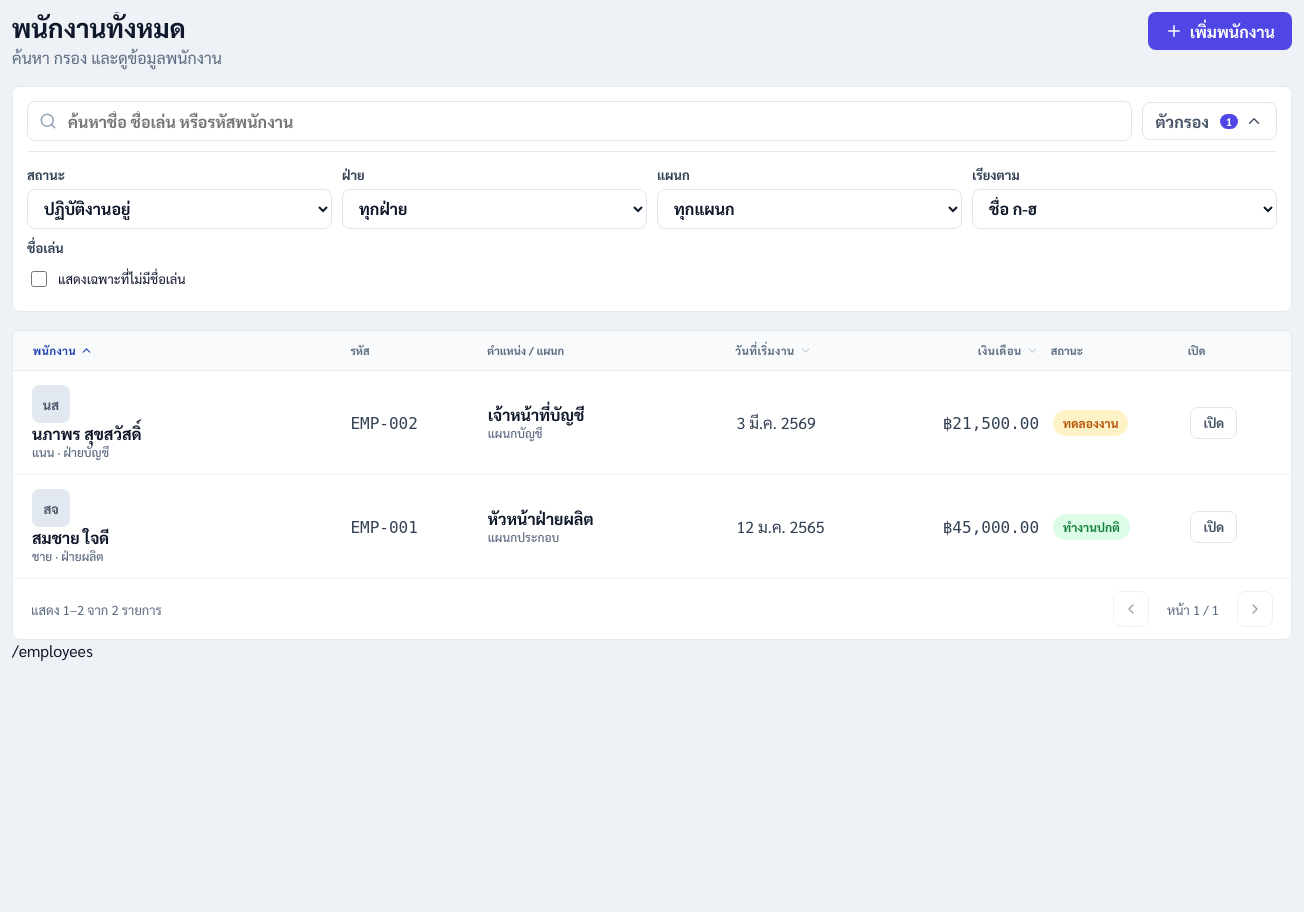
Test: EmployeeListPage status filter › writes the param when narrowing, and removes it when returning to the default
Select "ลาออก" in the dropdown labelled "สถานะ" at (180, 209), box top-left (27, 189), bottom-right (332, 229)
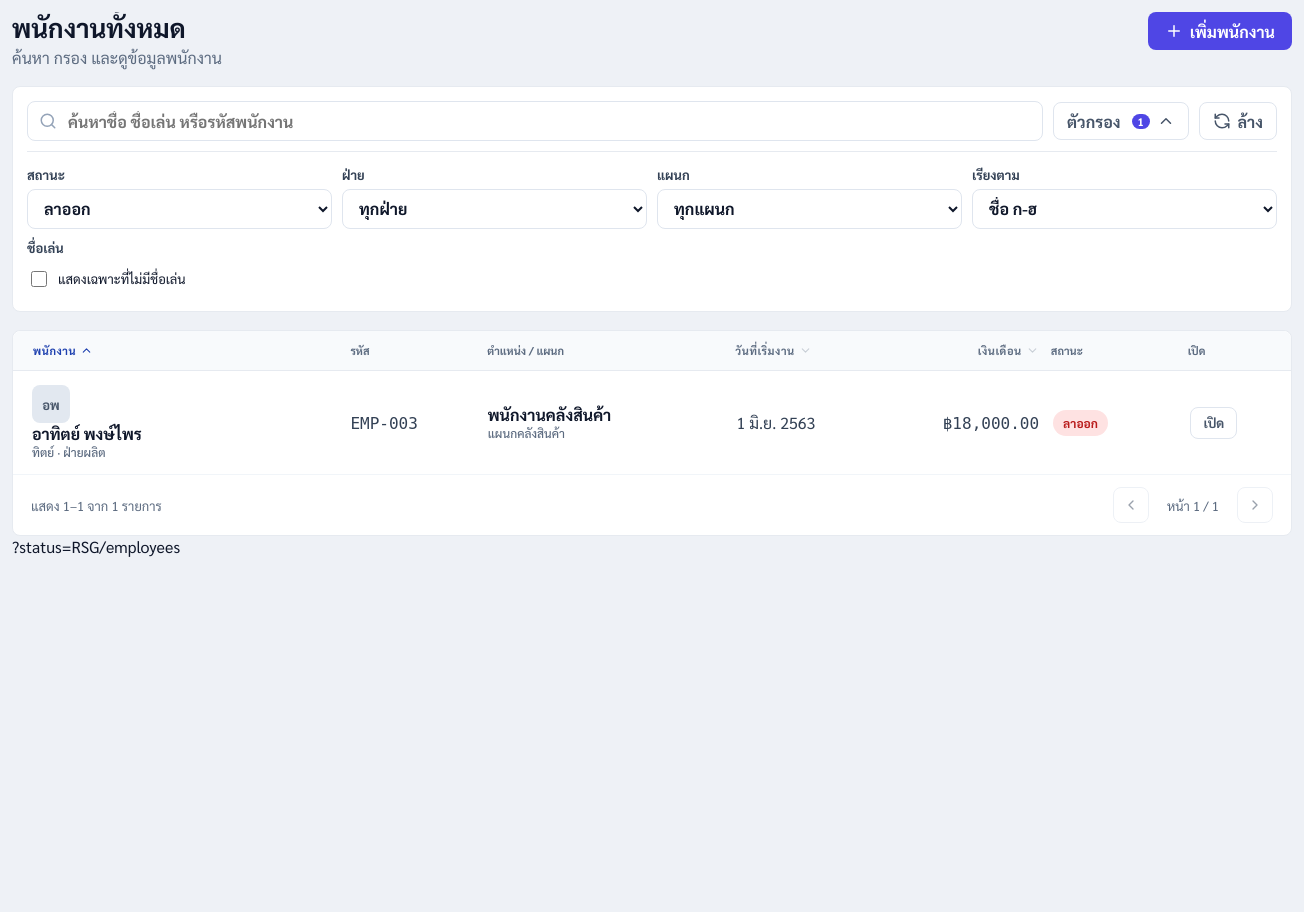
Now the text with test id "search-params" shows "status=RSG", box top-left (12, 536), bottom-right (99, 557)
Select "ปฏิบัติงานอยู่" in the dropdown labelled "สถานะ" at (180, 209), box top-left (27, 189), bottom-right (332, 229)
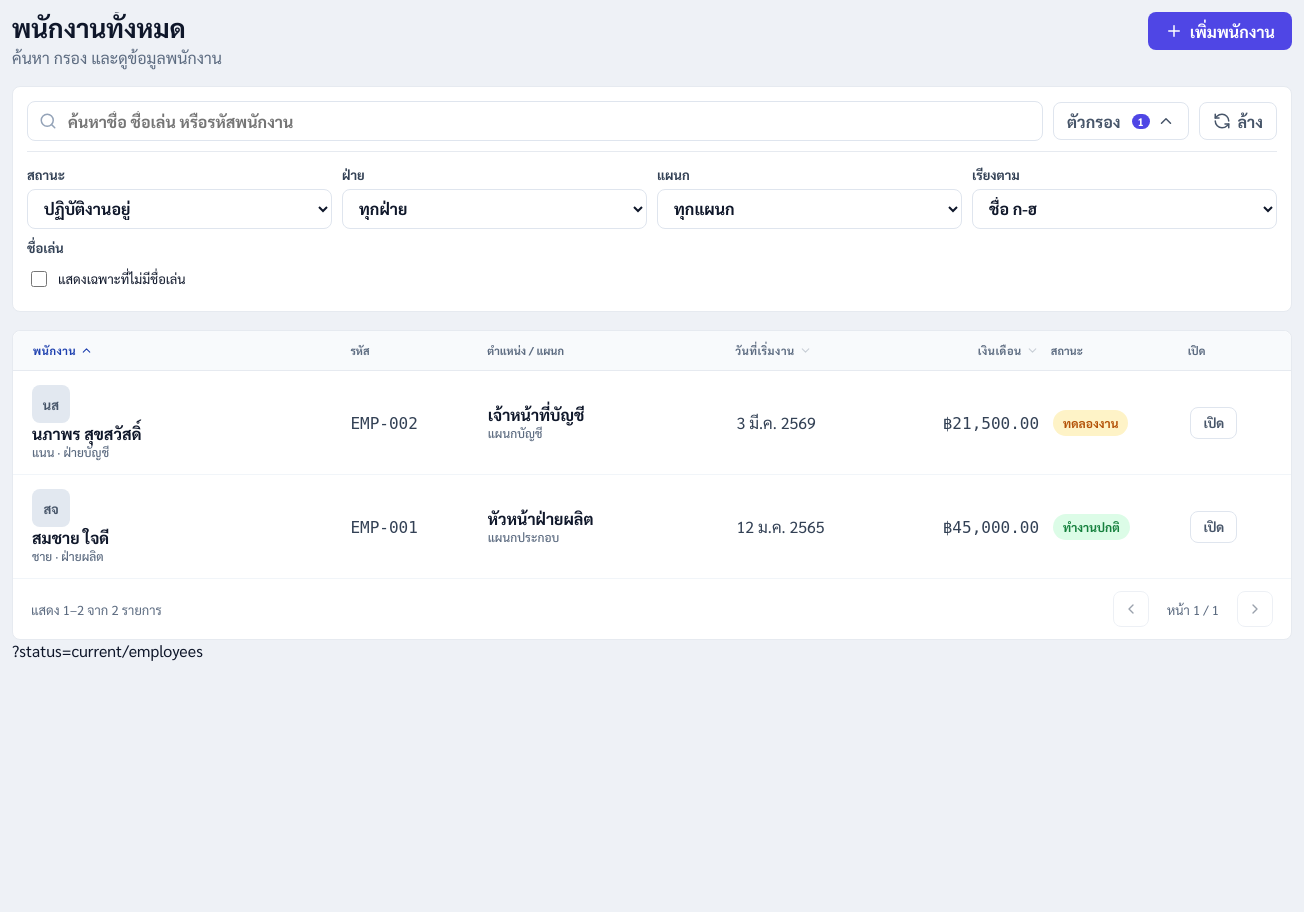
Now the text with test id "search-params" shows "status=current", box top-left (12, 640), bottom-right (122, 661)
